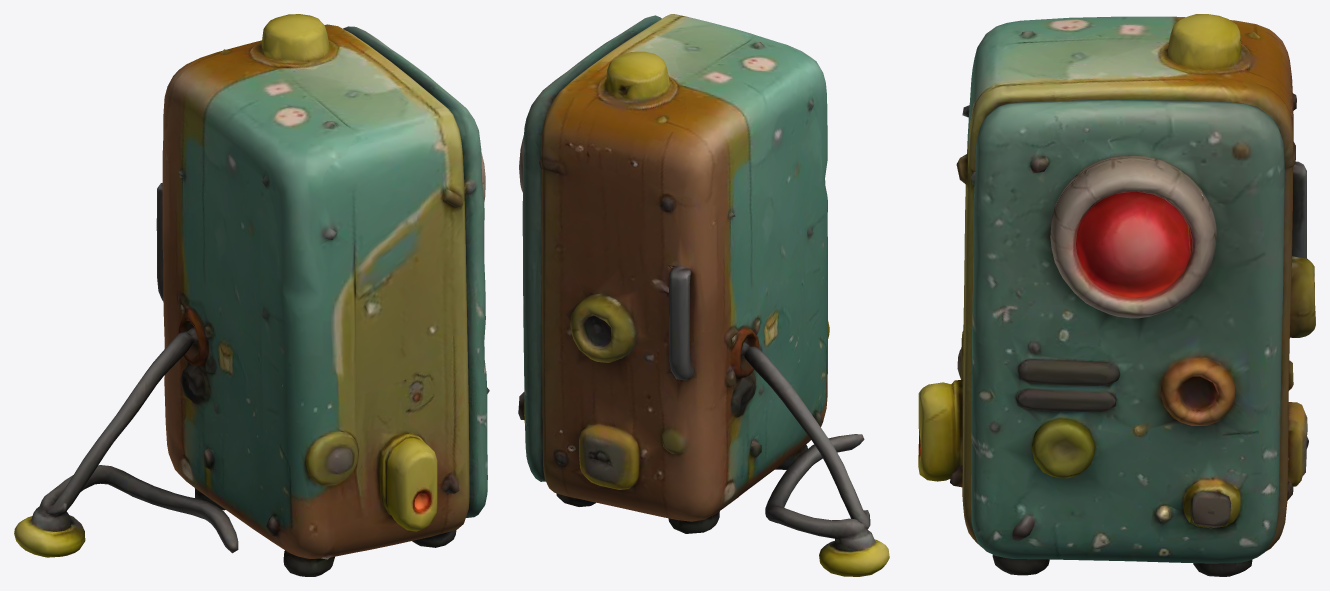
Rendered from npc_echo.glb.
3 renders of one model, left to right at view 1: azimuth 30°, elevation 25°; view 2: azimuth 150°, elevation 25°; view 3: azimuth 270°, elevation 25°, orthographic. The views are drawn at different scales.
Visible parts, largest first — view 1: tripo_node_e5819acf-e7e2-41fd-ab8d-d64f5ee4a57c; view 2: tripo_node_e5819acf-e7e2-41fd-ab8d-d64f5ee4a57c; view 3: tripo_node_e5819acf-e7e2-41fd-ab8d-d64f5ee4a57c.
Part boxes in pixels (x1,y1,x2,y2): tripo_node_e5819acf-e7e2-41fd-ab8d-d64f5ee4a57c: (14,14,489,576); tripo_node_e5819acf-e7e2-41fd-ab8d-d64f5ee4a57c: (518,14,889,576); tripo_node_e5819acf-e7e2-41fd-ab8d-d64f5ee4a57c: (918,14,1315,576).
Bounding box in the file's own units: 0.8725 × 1 × 0.6911.
1 material, 1 textured.
